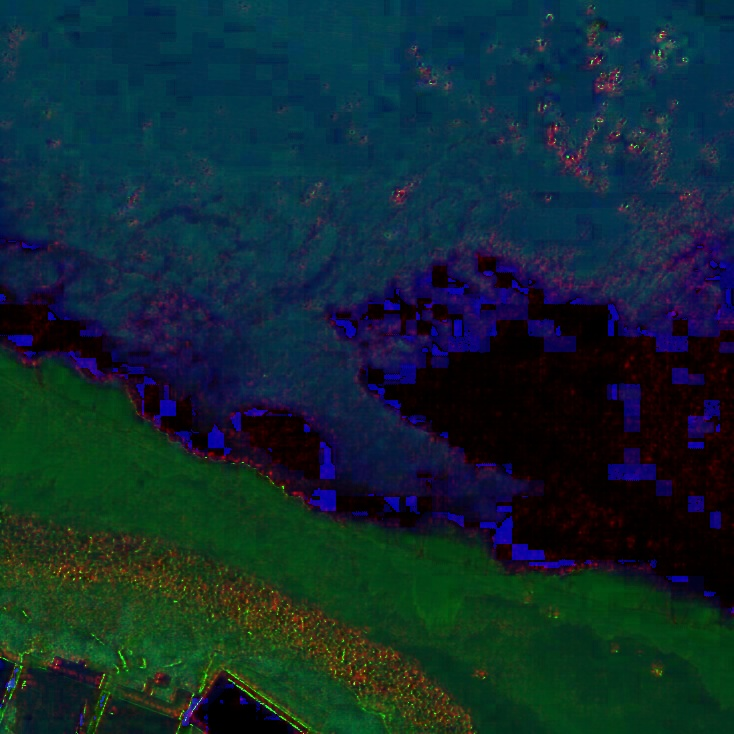rip_current: (144, 203, 459, 503)
